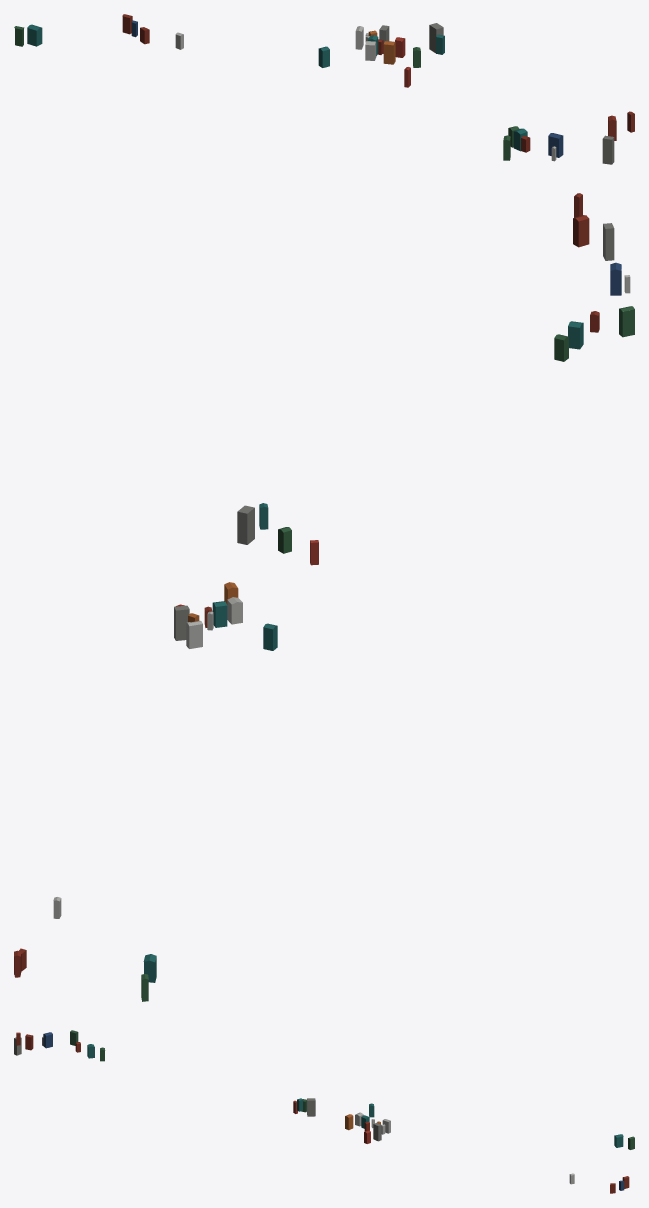
Rendered from near-15-27366-14859.8f141ae0.glb.
The picture shows the model from 3 angles, top to bottom: view 1: azimuth 30°, elevation 25°; view 2: azimuth 150°, elevation 25°; view 3: azimuth 270°, elevation 25°; orthographic projection. The views are drawn at different scales.
Bounding box in the file's own units: 200 × 269 × 899.
